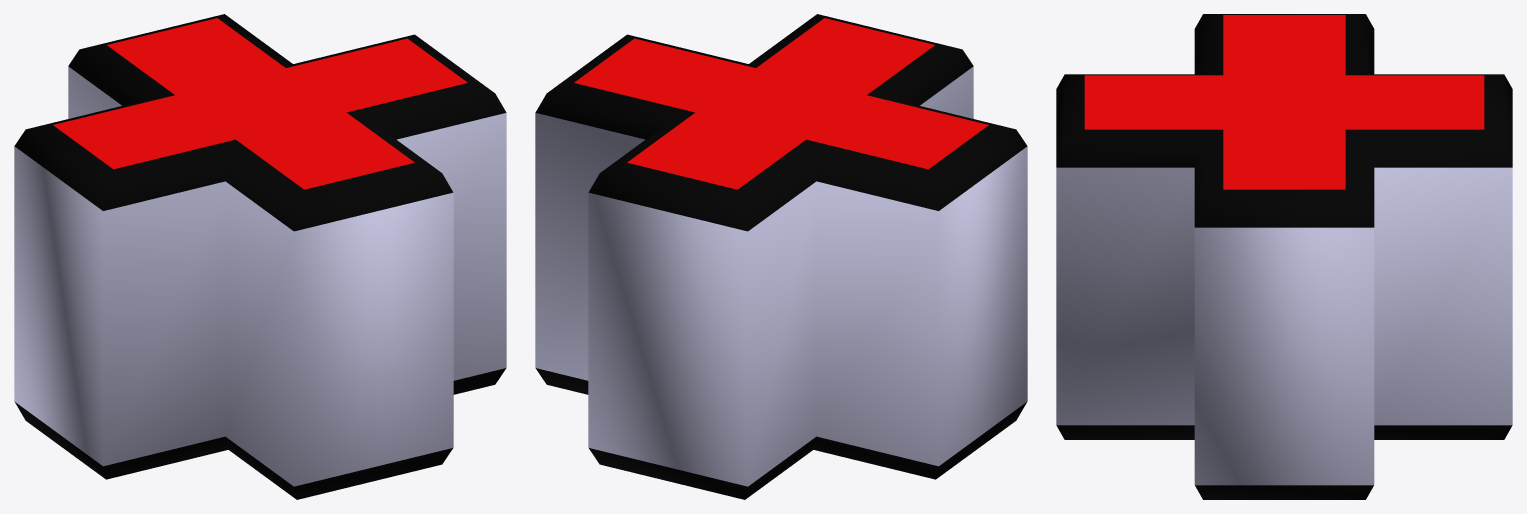
File: FirstAid2.fbx
3 views of the same model, side by side, from view 1: azimuth 30°, elevation 25°; view 2: azimuth 150°, elevation 25°; view 3: azimuth 270°, elevation 25° (orthographic).
Parts seen in each view (by area): view 1: Text.004; view 2: Text.004; view 3: Text.004.
Part boxes in pixels (x1=…): Text.004: x1=14, y1=14, x2=506, y2=499; Text.004: x1=535, y1=14, x2=1027, y2=499; Text.004: x1=1056, y1=14, x2=1512, y2=499.
Bounding box in the file's own units: 82.71 × 60 × 80.21.
